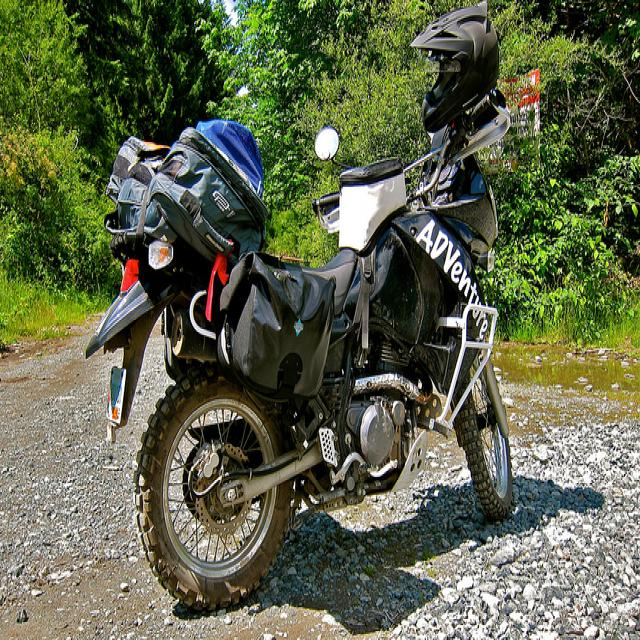motor: (81, 93, 515, 610)
